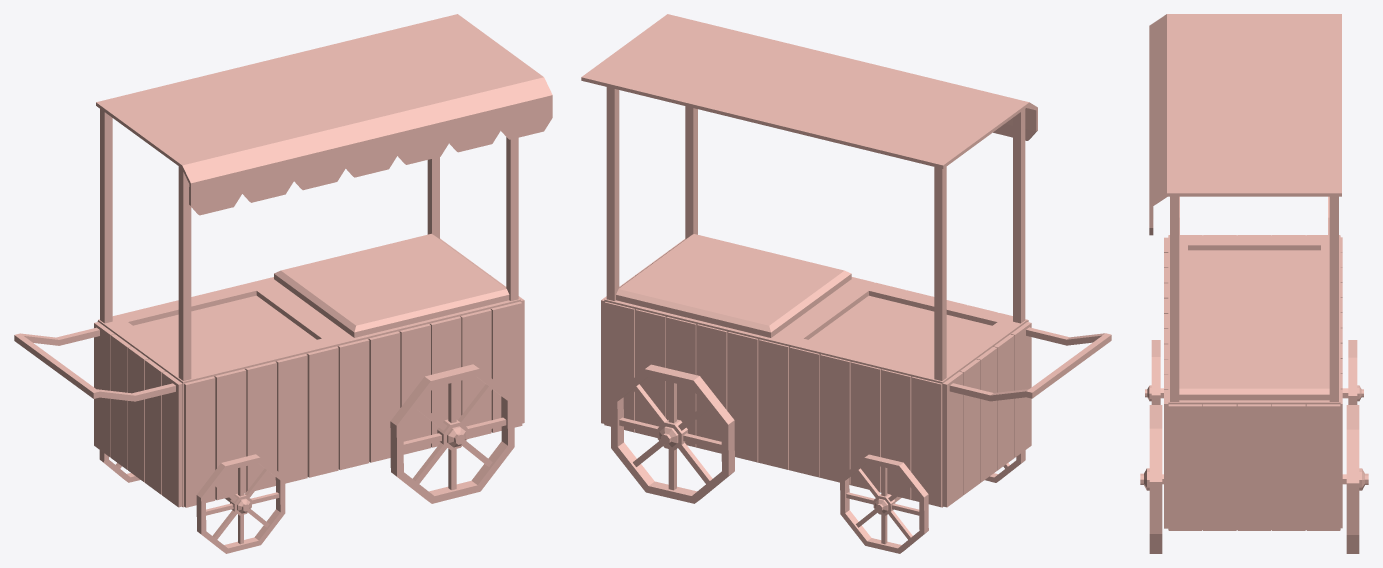
Rendered from Mega_Asset_s_Pack_Cube_351.FBX.
The picture shows the model from 3 angles, left to right: view 1: azimuth 30°, elevation 25°; view 2: azimuth 150°, elevation 25°; view 3: azimuth 270°, elevation 25°; orthographic projection.
Parts seen in each view (by area): view 1: Mega_Asset_s_Pack_Cube_351; view 2: Mega_Asset_s_Pack_Cube_351; view 3: Mega_Asset_s_Pack_Cube_351.
Boxes of the visible parts, box(x1,y1,x2,y2) form: Mega_Asset_s_Pack_Cube_351: box(14, 14, 552, 553); Mega_Asset_s_Pack_Cube_351: box(581, 14, 1111, 553); Mega_Asset_s_Pack_Cube_351: box(1140, 14, 1368, 553).
Size of what is drawn, in the model's own units: 473 by 206 by 396.
